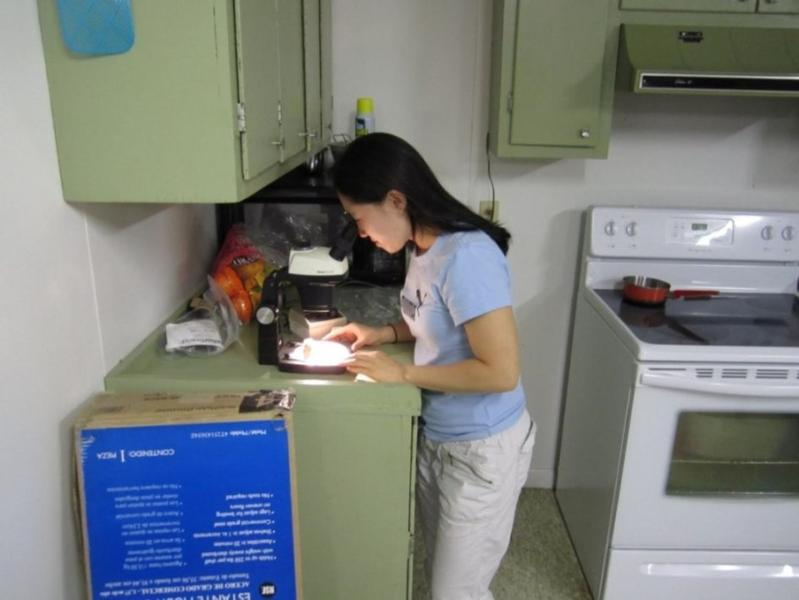person: (318, 135, 539, 596)
